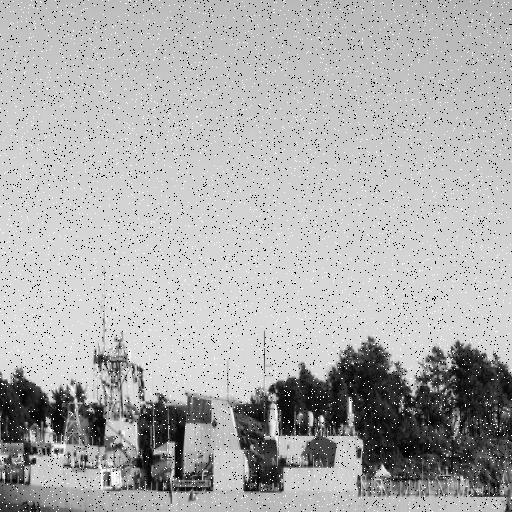Fragata: (1, 279, 511, 512)
